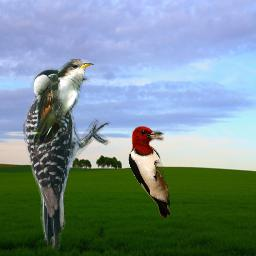Cuckoo: (33, 59, 94, 143)
Woodpecker: (21, 68, 112, 250), (128, 126, 170, 218)
